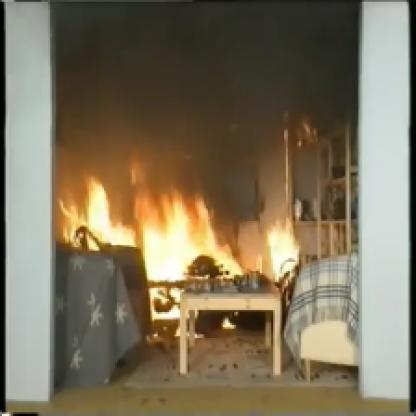fire: (52, 167, 248, 309), (270, 100, 331, 157), (267, 204, 303, 298)
